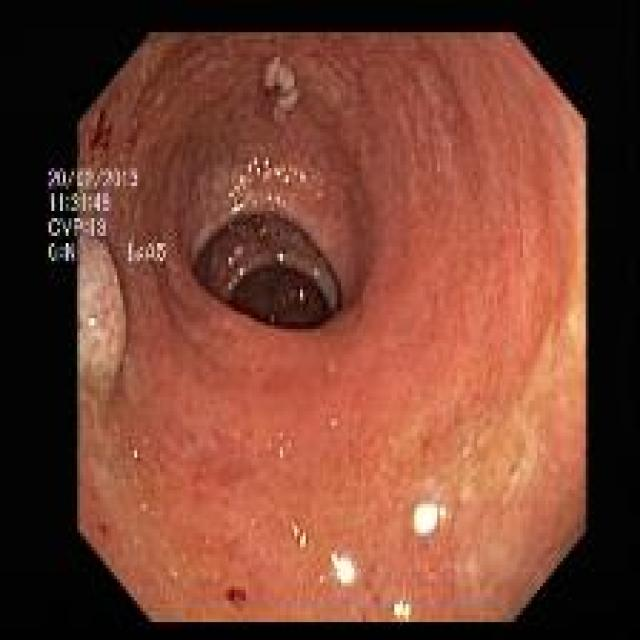ulcerative-colitis: (75, 33, 585, 622)
